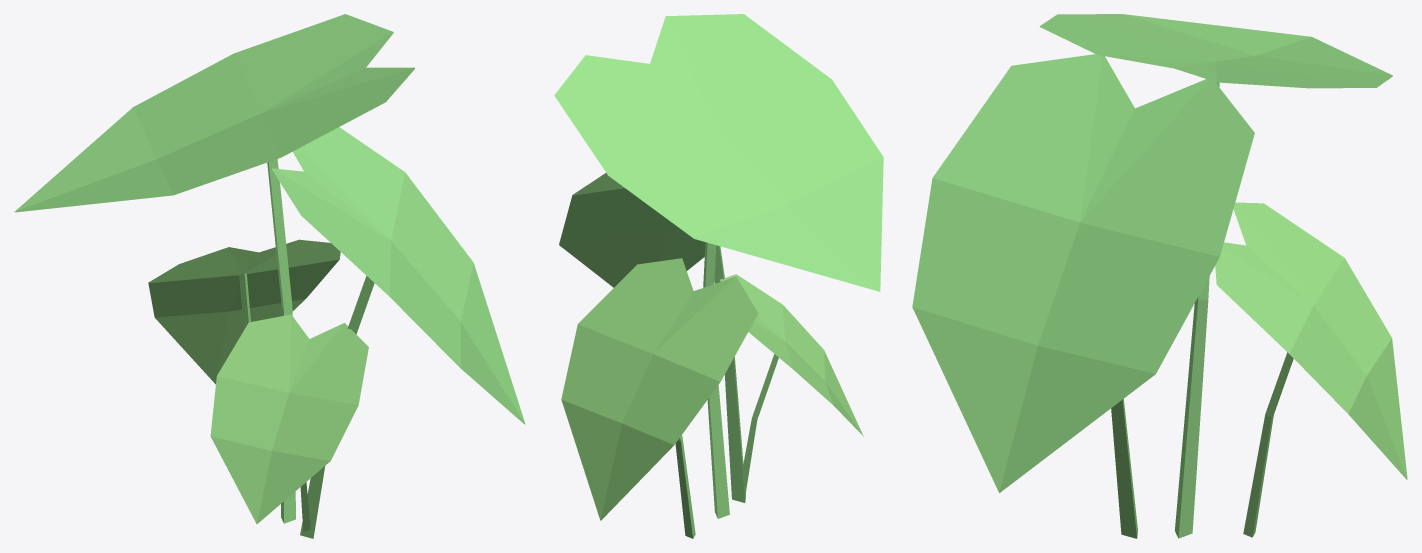
The model's file is Plant_d_TwoS_07.fbx.
The picture shows the model from 3 angles, left to right: view 1: azimuth 30°, elevation 25°; view 2: azimuth 150°, elevation 25°; view 3: azimuth 270°, elevation 25°; orthographic projection. The views are drawn at different scales.
Parts seen in each view (by area): view 1: Plant_d_TwoS_07; view 2: Plant_d_TwoS_07; view 3: Plant_d_TwoS_07.
Part boxes in pixels (x1,y1,x2,y2): Plant_d_TwoS_07: (14, 14, 525, 538); Plant_d_TwoS_07: (554, 14, 883, 538); Plant_d_TwoS_07: (912, 14, 1407, 538).
Bounding box in the file's own units: 65.62 × 72.94 × 61.47.
